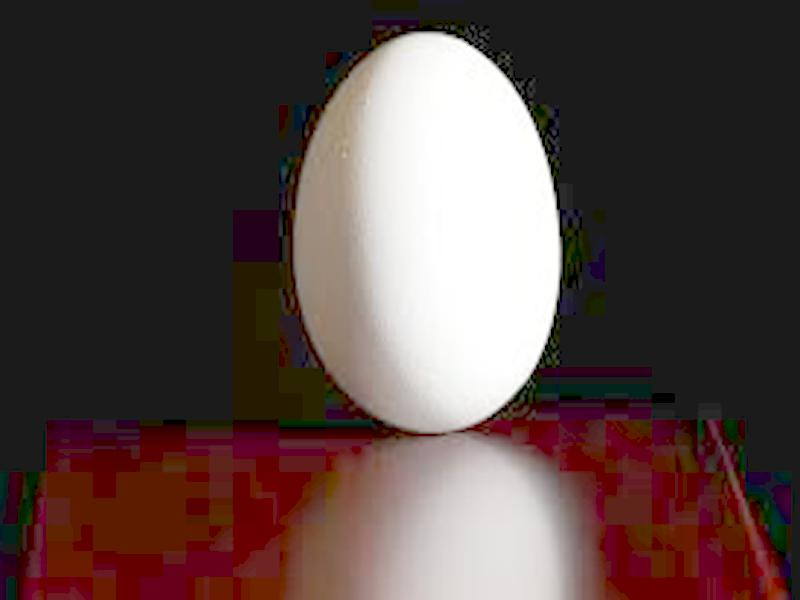Eggs: (297, 33, 559, 433)
